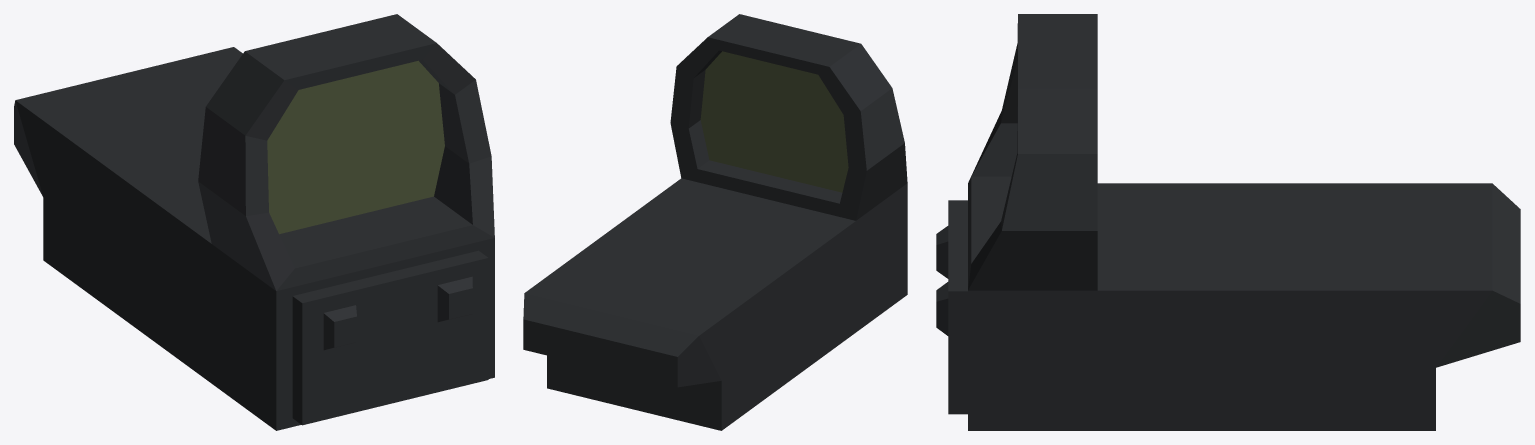
File: SM_Wep_Attach_Sight_01.fbx
The picture shows the model from 3 angles, left to right: view 1: azimuth 30°, elevation 25°; view 2: azimuth 150°, elevation 25°; view 3: azimuth 270°, elevation 25°; orthographic projection. The views are drawn at different scales.
Parts seen in each view (by area): view 1: SM_Wep_Attach_Sight_01; view 2: SM_Wep_Attach_Sight_01; view 3: SM_Wep_Attach_Sight_01.
Boxes of the visible parts, x1,y1,x2,y2 form: SM_Wep_Attach_Sight_01: [14, 14, 494, 430]; SM_Wep_Attach_Sight_01: [523, 14, 907, 430]; SM_Wep_Attach_Sight_01: [936, 14, 1520, 430].
Bounding box in the file's own units: 4.45 × 5.61 × 9.11.
1 material, 1 textured.
